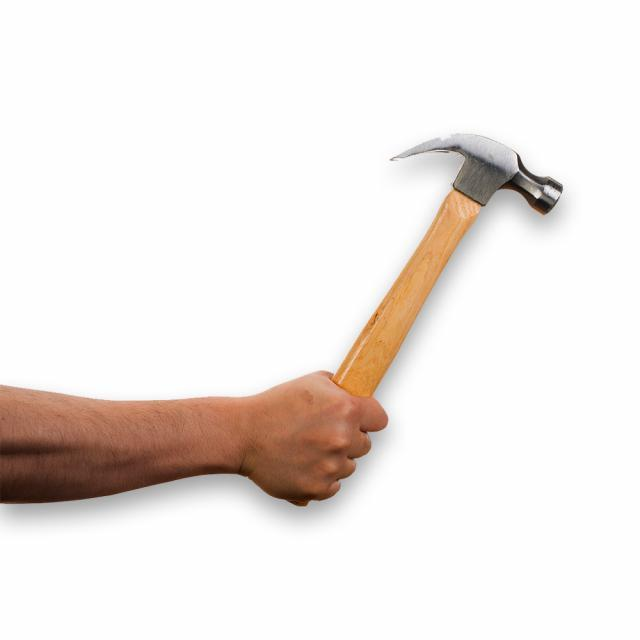hammer: (273, 122, 571, 524)
